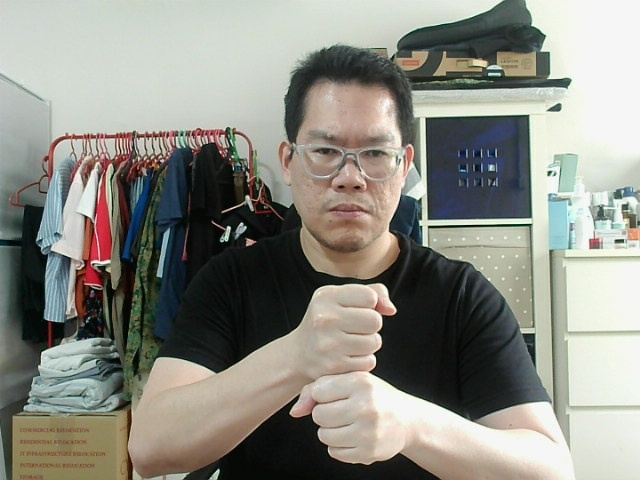get: (291, 291, 388, 361)
